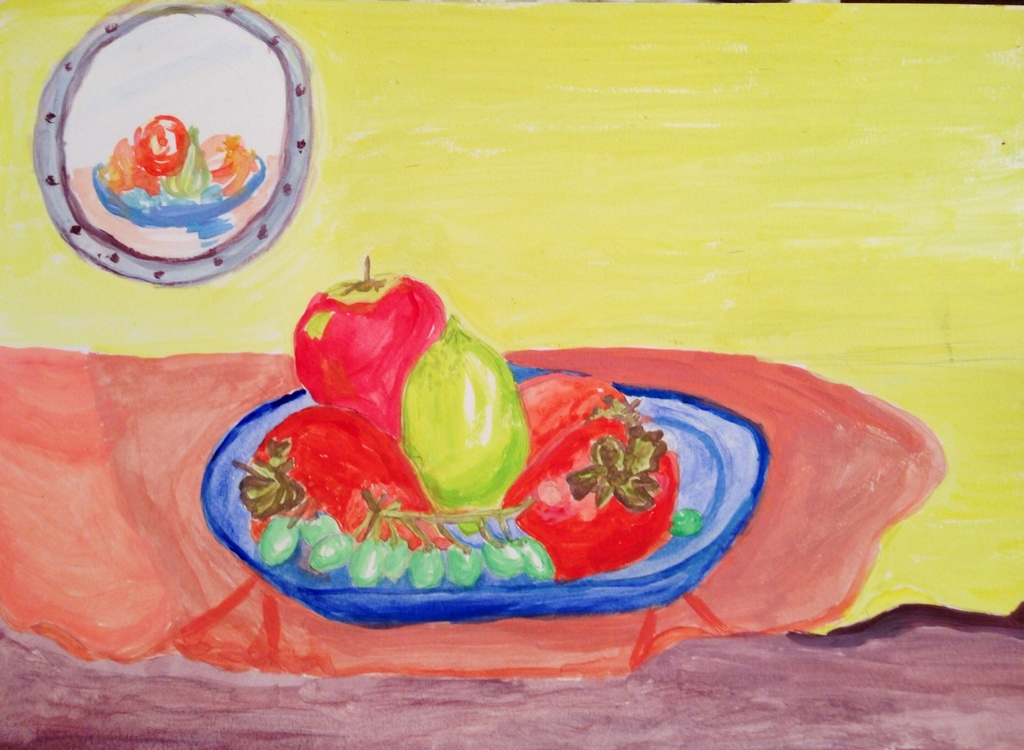Apple: (289, 252, 445, 439)
